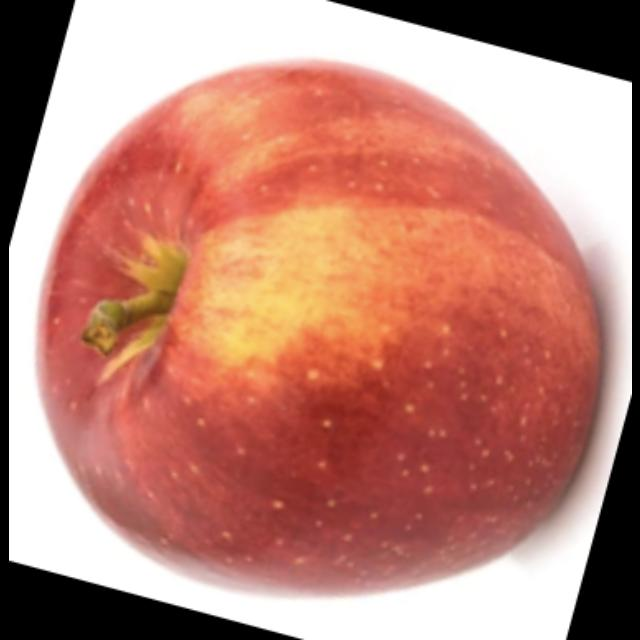Apel Segar: (33, 62, 600, 588)
